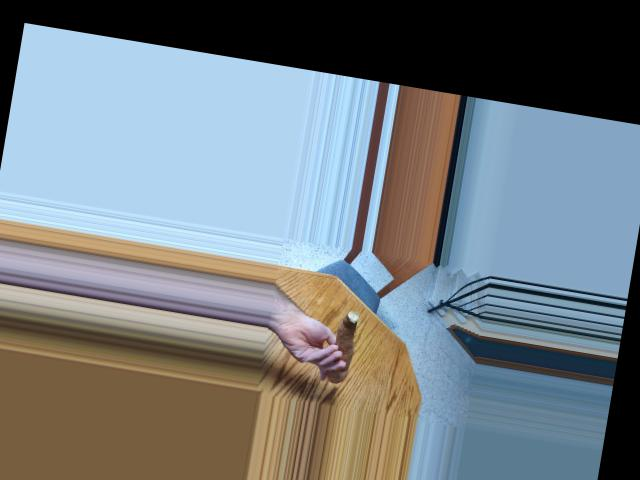sweet_potato: (332, 308, 358, 373)
